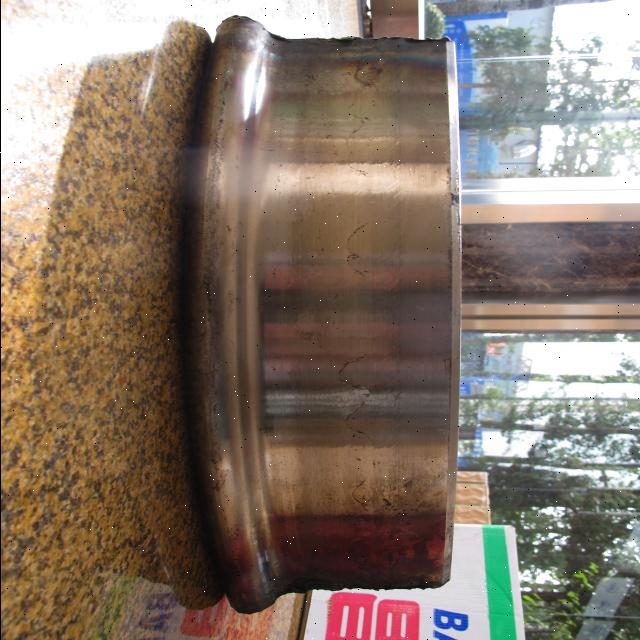fatigue crack: (332, 346, 382, 451), (337, 99, 379, 181), (339, 212, 381, 284), (346, 470, 373, 517)
